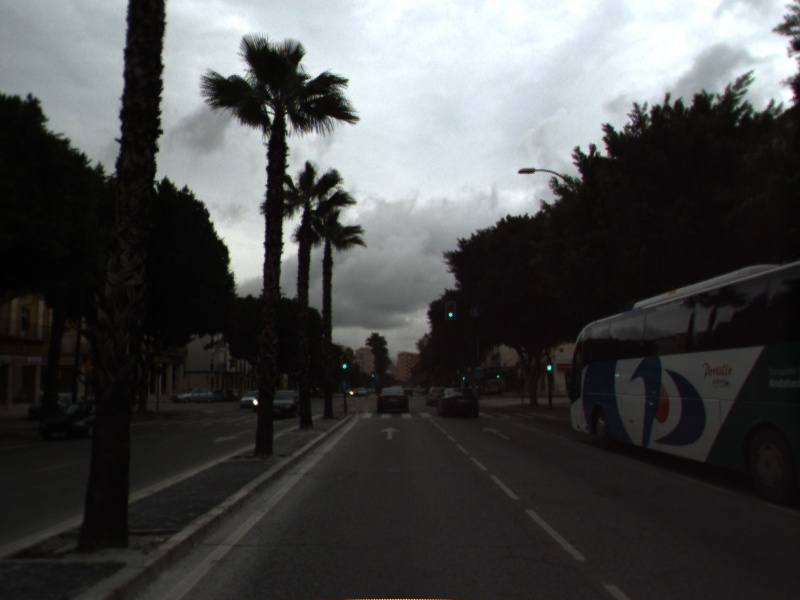STRAIGHT: (480, 424, 514, 443), (377, 424, 403, 442)
